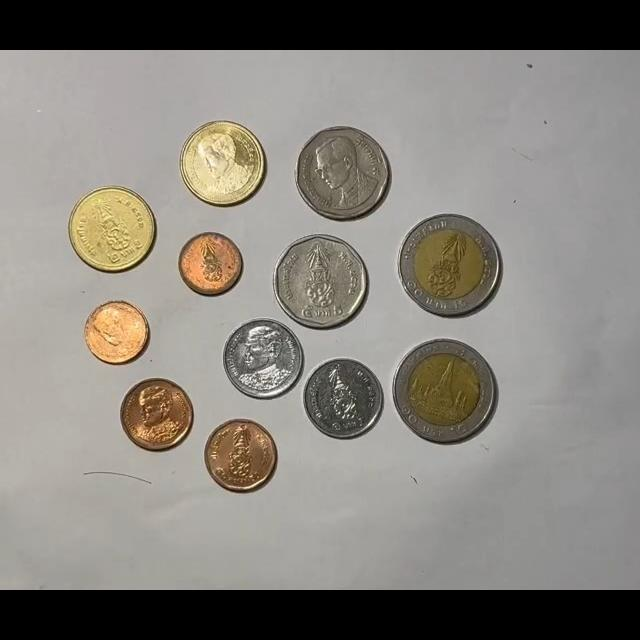1-baht: (303, 357, 385, 439), (222, 319, 303, 399)
10-baht: (392, 339, 498, 444), (397, 213, 503, 317)
2-baht: (180, 120, 267, 207), (68, 187, 155, 273)
25-satang: (84, 299, 150, 364), (179, 231, 244, 296)
5-baht: (273, 234, 369, 329), (295, 126, 391, 221)
50-satang: (120, 377, 194, 449), (204, 419, 278, 491)
